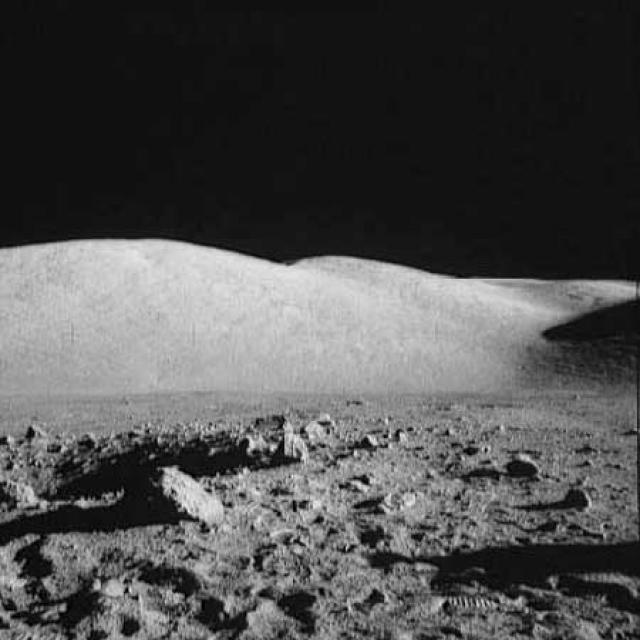crater: (0, 428, 250, 482)
rock: (132, 453, 230, 527), (272, 405, 311, 464), (501, 444, 542, 479), (306, 408, 340, 449)
